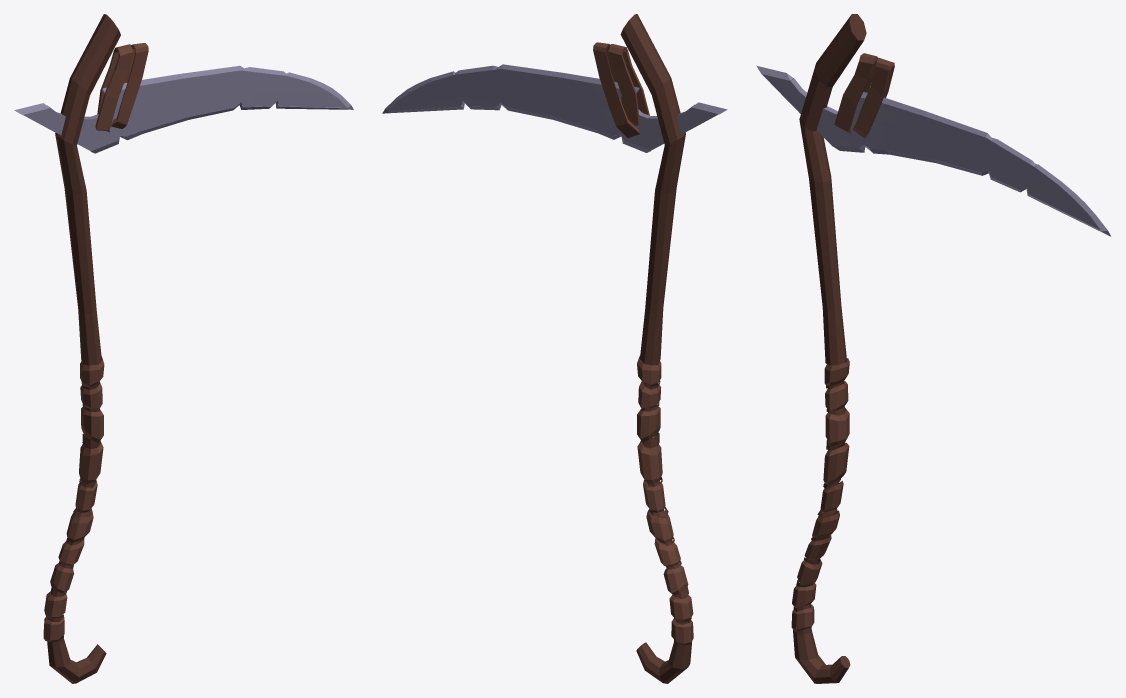
The model's file is armory-necromancer-2.glb.
The picture shows the model from 3 angles, left to right: view 1: azimuth 30°, elevation 25°; view 2: azimuth 150°, elevation 25°; view 3: azimuth 330°, elevation 25°; orthographic projection. The views are drawn at different scales.
Visible parts, largest first — view 1: Scythe_Cylinder.005; view 2: Scythe_Cylinder.005; view 3: Scythe_Cylinder.005.
Part boxes in pixels (x1,y1,x2,y2): Scythe_Cylinder.005: (14,14,353,683); Scythe_Cylinder.005: (382,14,727,683); Scythe_Cylinder.005: (756,14,1110,683).
Bounding box in the file's own units: 3.4 × 6.27 × 0.2771.
